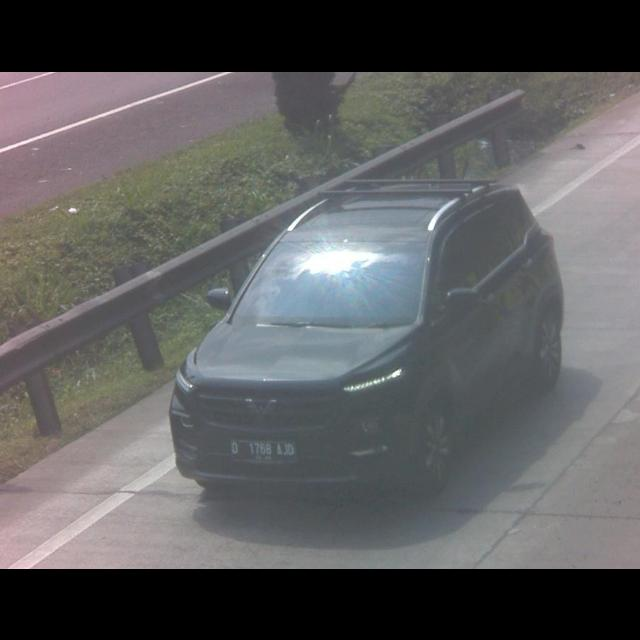plate: (229, 439, 299, 461)
